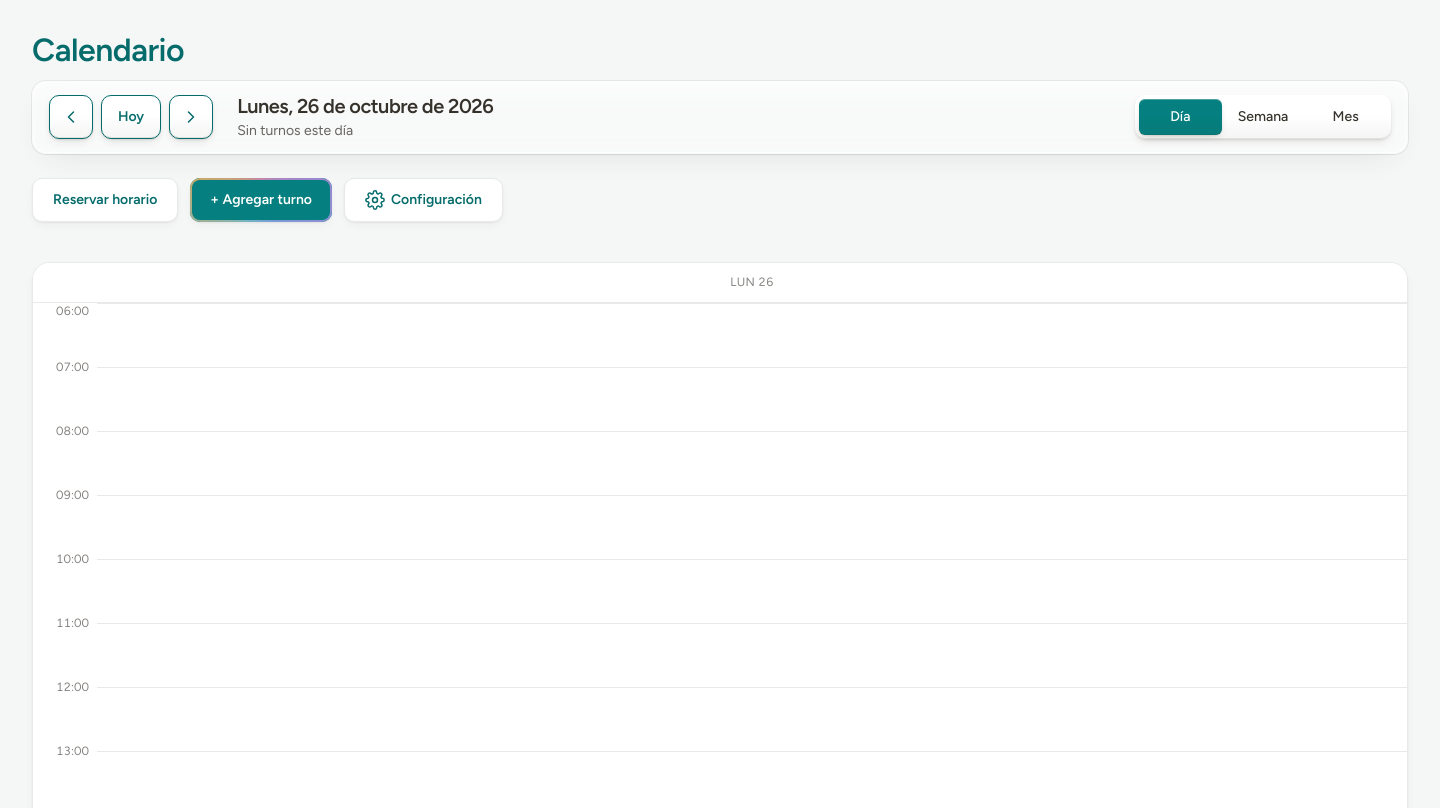
Test: CalendarView › el botón '+ Agregar turno' abre el modal
Step 1. Click the button "+ Agregar turno" → (261, 200), box [190,178,332,222]
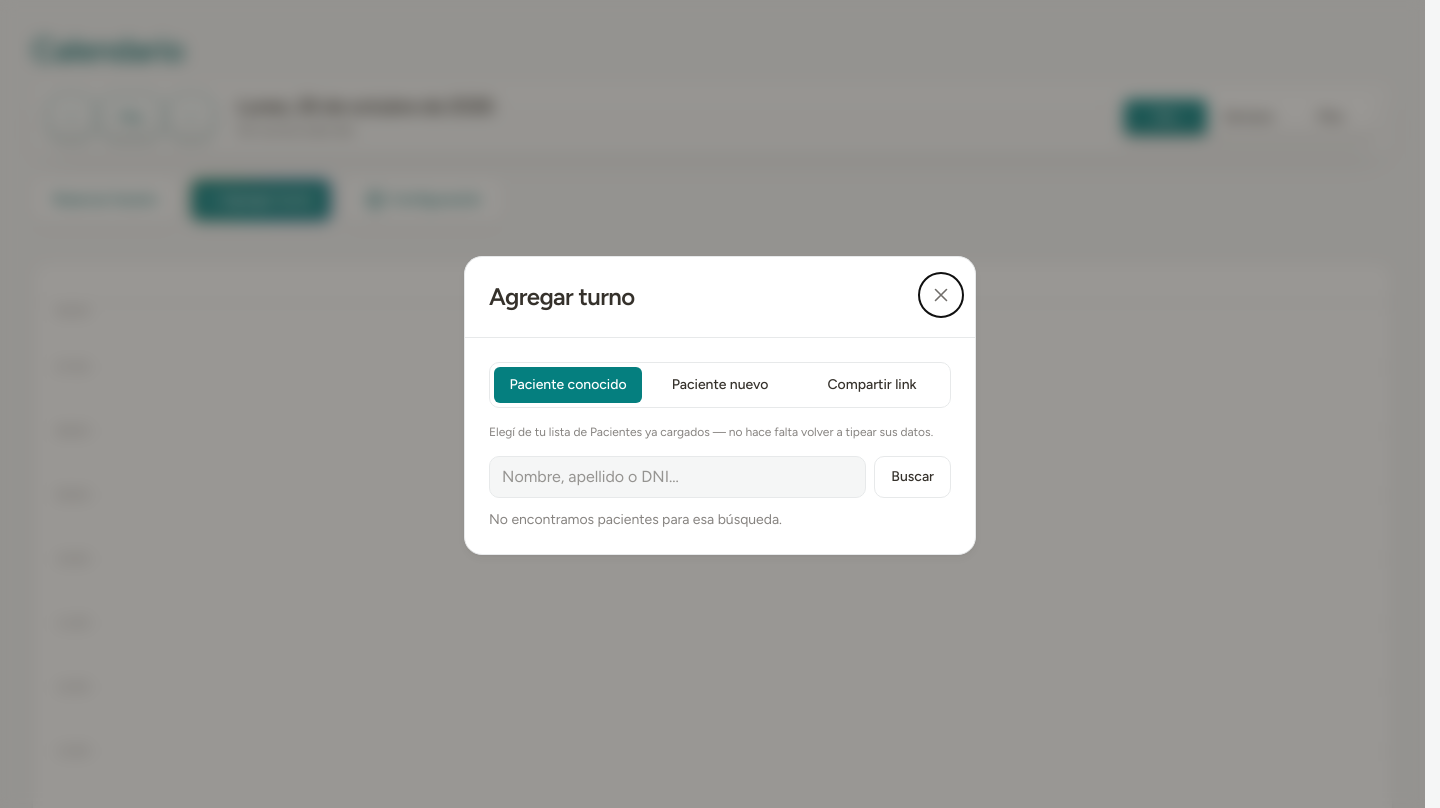
Now the dialog "Agregar turno" is shown, box [464,256,976,554]
